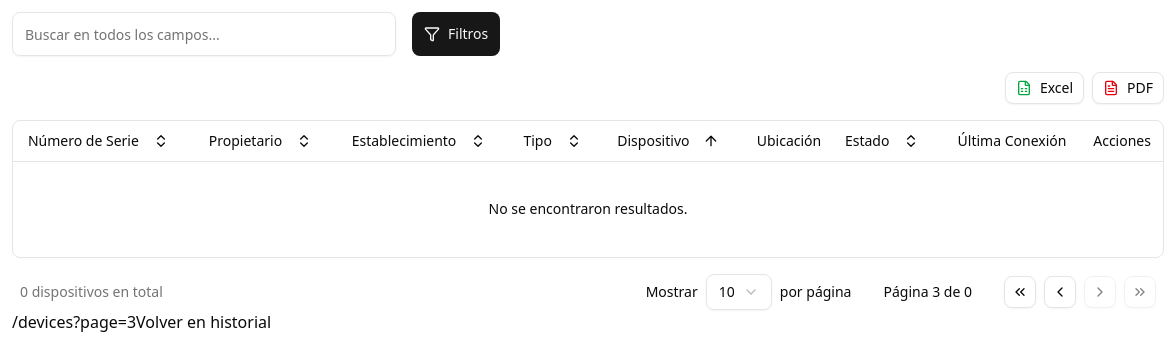
Scenario: DevicesTable responsive contract › sorts Propietario from the user list through the server
The image size is (1176, 350).
Click the button "Propietario" at (260, 141), box [199, 125, 322, 157]
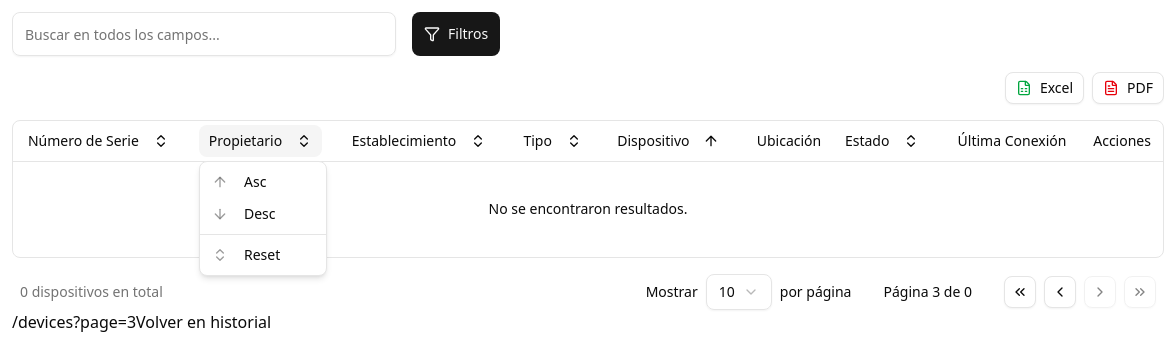
Click the menu item "Asc" at (220, 182), box [212, 172, 266, 191]
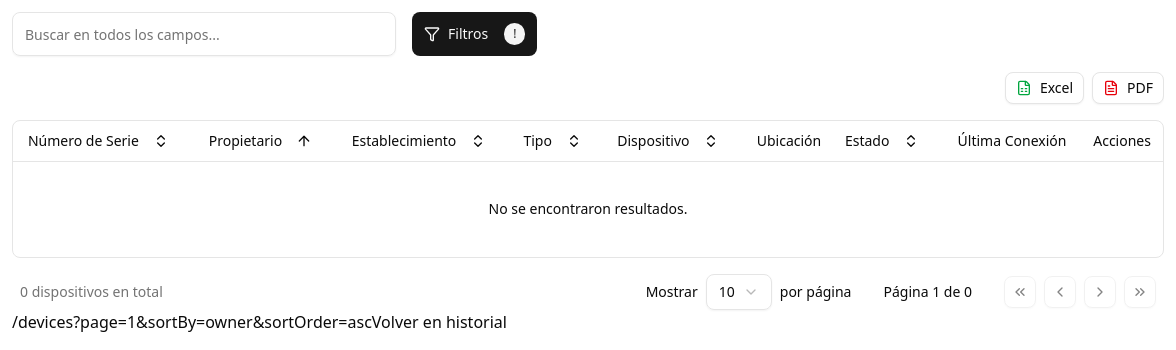
Check: the text with test id "location" shows "page=1", box [73, 311, 372, 333]
